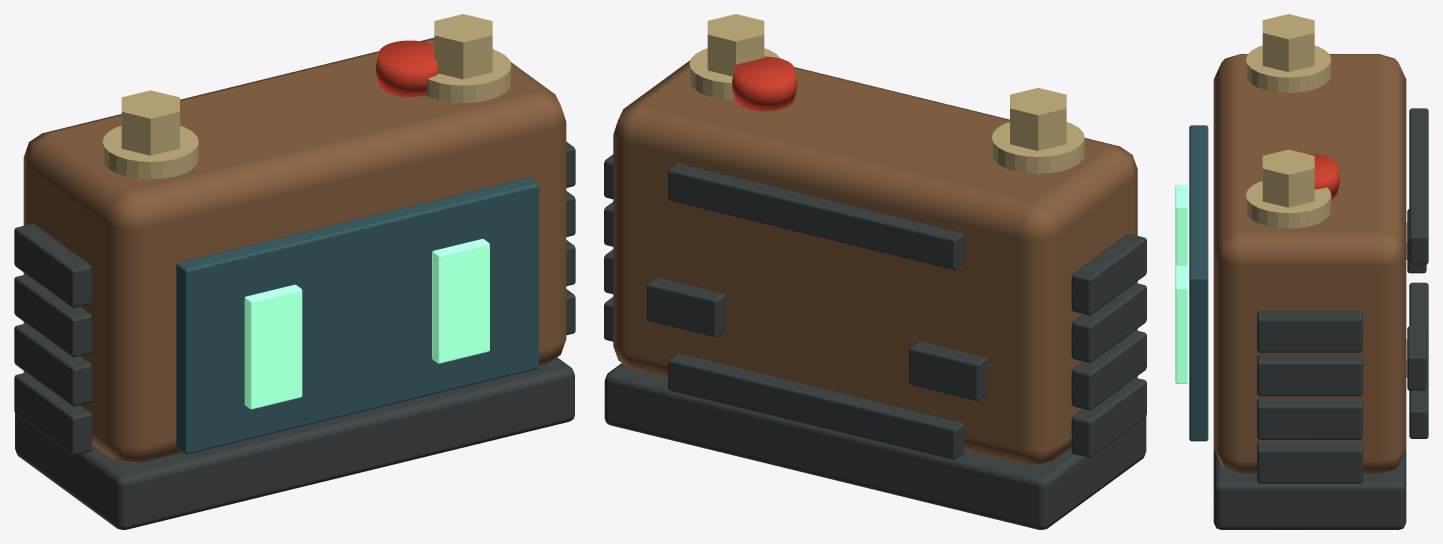
The model's file is city-courthouse-and-records-office-city-courthouse-and-b8d2a04f__30975.glb.
The picture shows the model from 3 angles, left to right: view 1: azimuth 30°, elevation 25°; view 2: azimuth 150°, elevation 25°; view 3: azimuth 270°, elevation 25°; orthographic projection. The views are drawn at different scales.
Visible parts, largest first — view 1: city-courthouse-and-records-office-hearing-timer; view 2: city-courthouse-and-records-office-hearing-timer; view 3: city-courthouse-and-records-office-hearing-timer.
Boxes of the visible parts, x1=… form: city-courthouse-and-records-office-hearing-timer: x1=14, y1=14, x2=575, y2=529; city-courthouse-and-records-office-hearing-timer: x1=604, y1=14, x2=1146, y2=529; city-courthouse-and-records-office-hearing-timer: x1=1175, y1=14, x2=1428, y2=529.
Bounding box in the file's own units: 0.242 × 0.175 × 0.1185.
